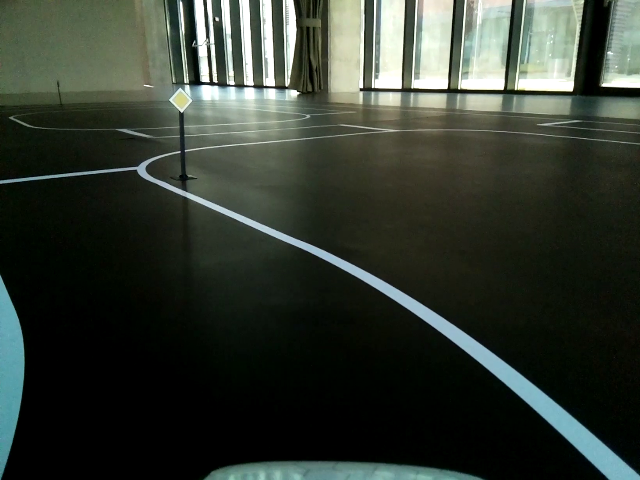priority: (172, 91, 192, 114)
